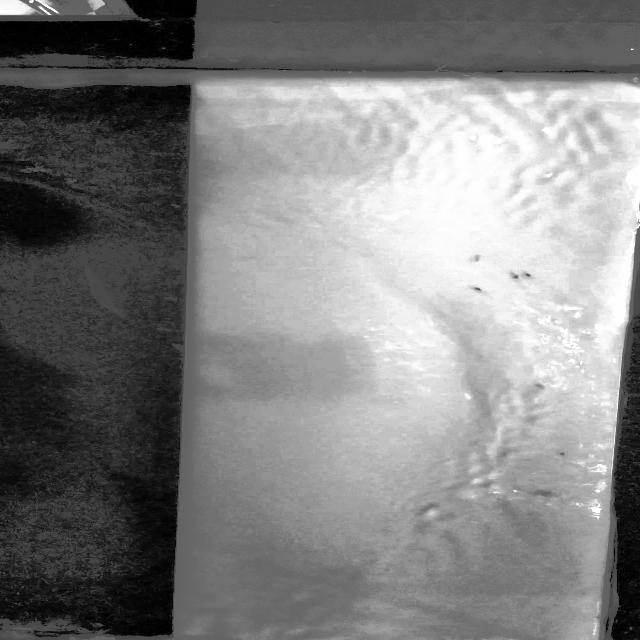shrimp: (528, 370, 556, 396), (460, 252, 496, 267), (533, 481, 559, 500), (469, 282, 497, 298), (505, 270, 527, 286), (515, 269, 537, 279), (553, 452, 575, 458)
